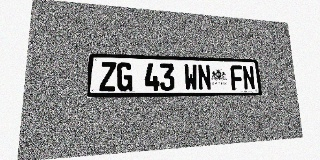3: (160, 63, 175, 91)
4: (145, 63, 160, 91)
F: (230, 65, 244, 90)
G: (116, 62, 132, 91)
N: (197, 64, 212, 90), (242, 66, 256, 90)
W: (184, 64, 198, 91)
Z: (99, 62, 116, 91)
